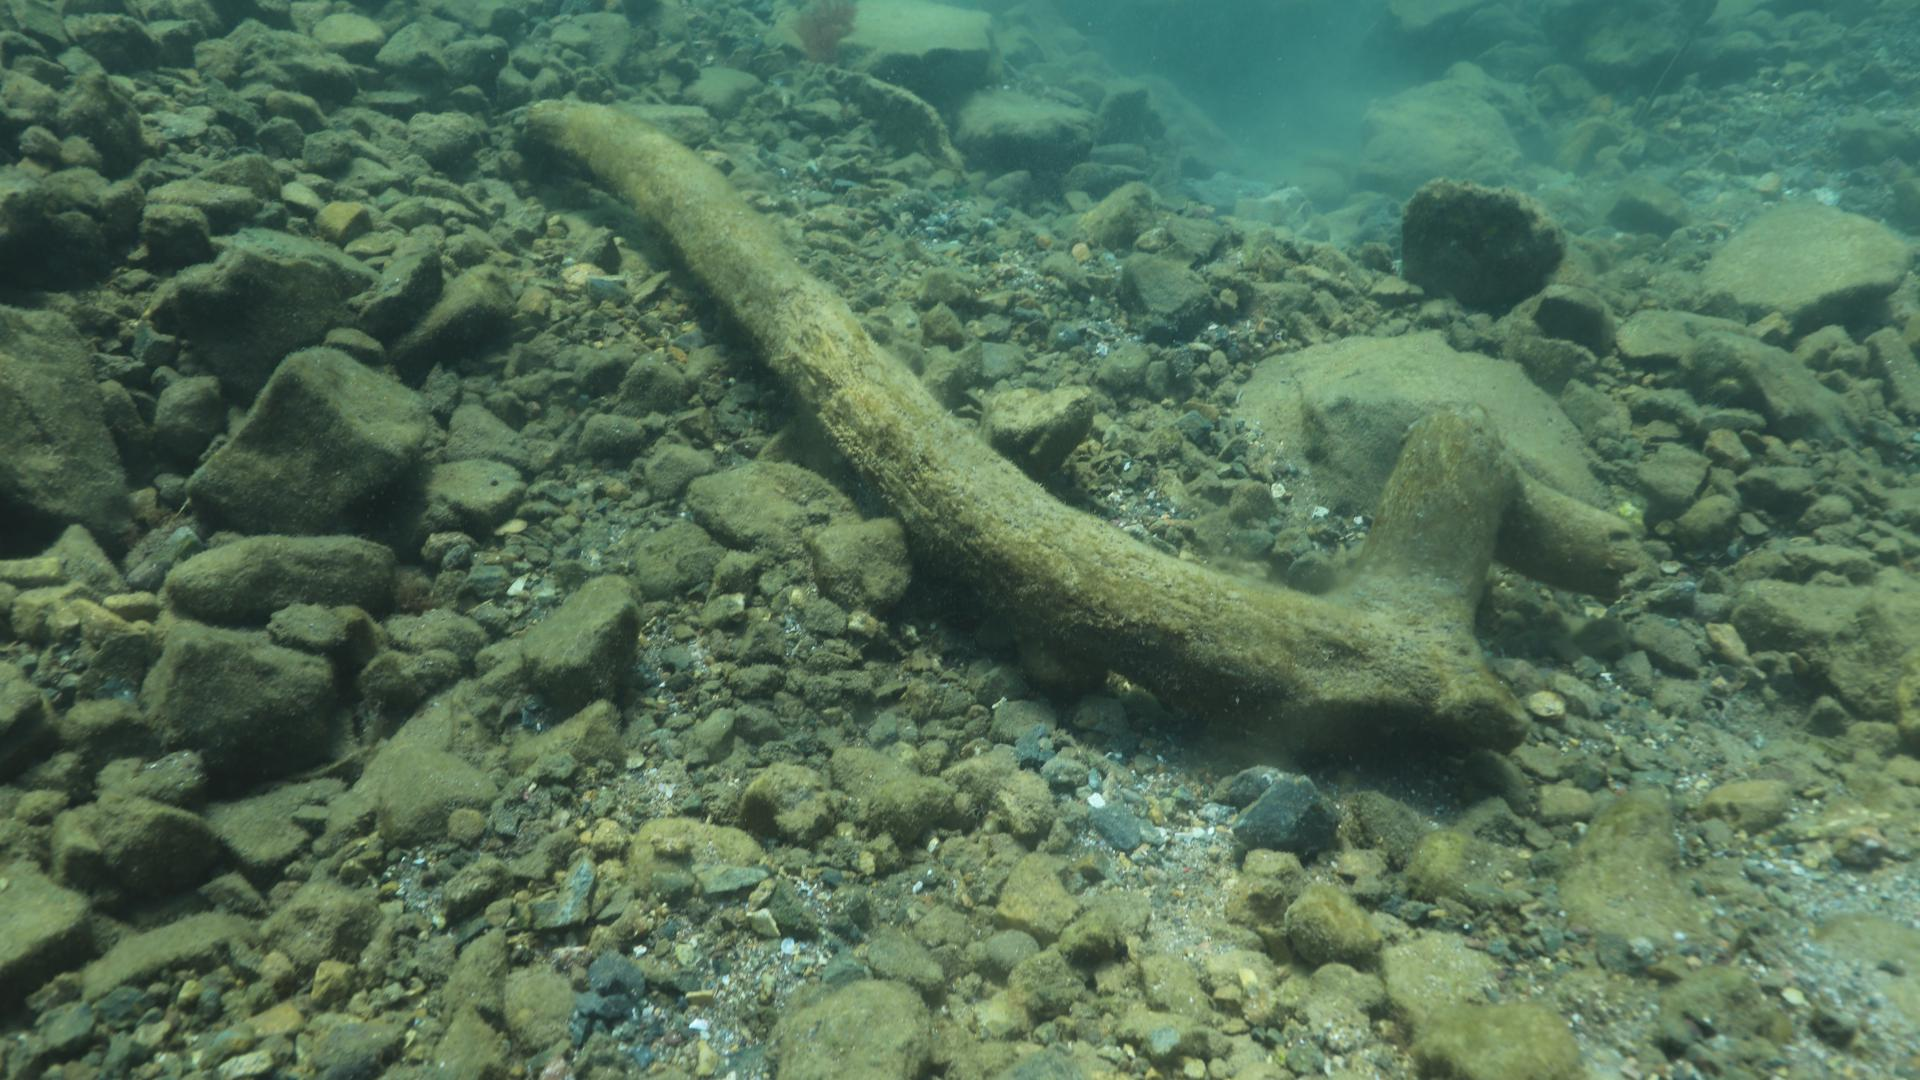wood: (522, 96, 1531, 756)
